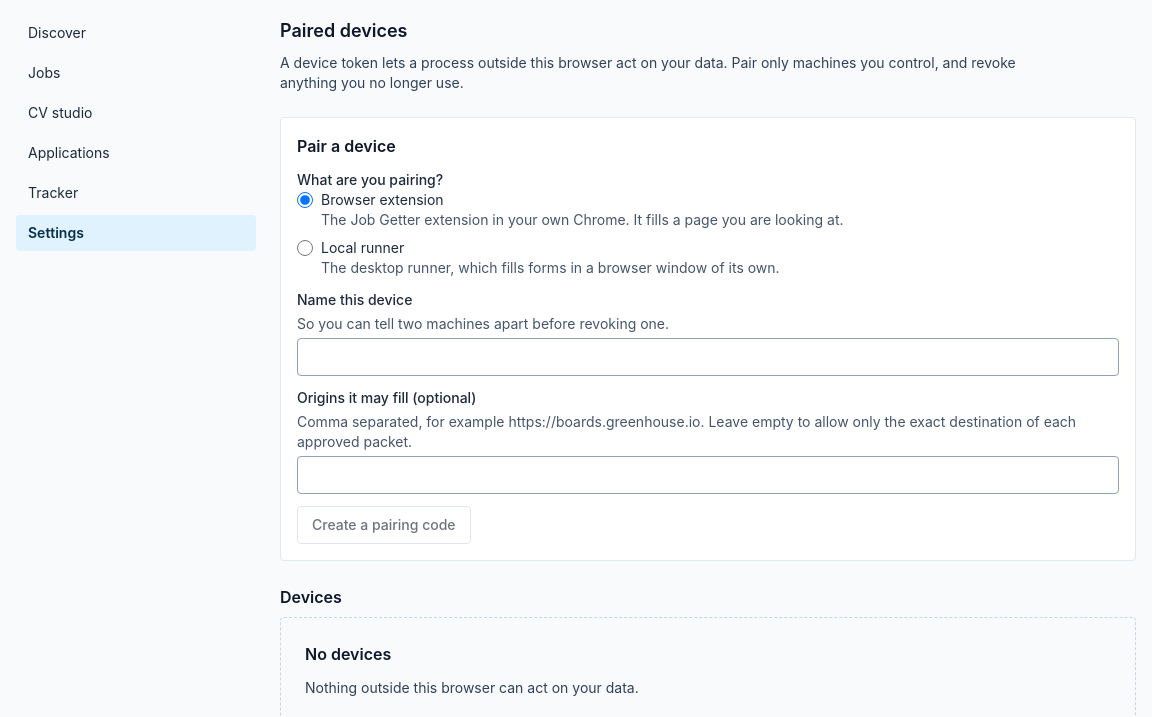
Scenario: device pairing › shows the code once and never renders a token
(page scrolled)
Expected: the heading "Paired devices" is shown, [280,20,408,41]
Type "Work laptop" into the field labelled "Name this device" at coordinates (708, 357), box [297,338,1119,376]
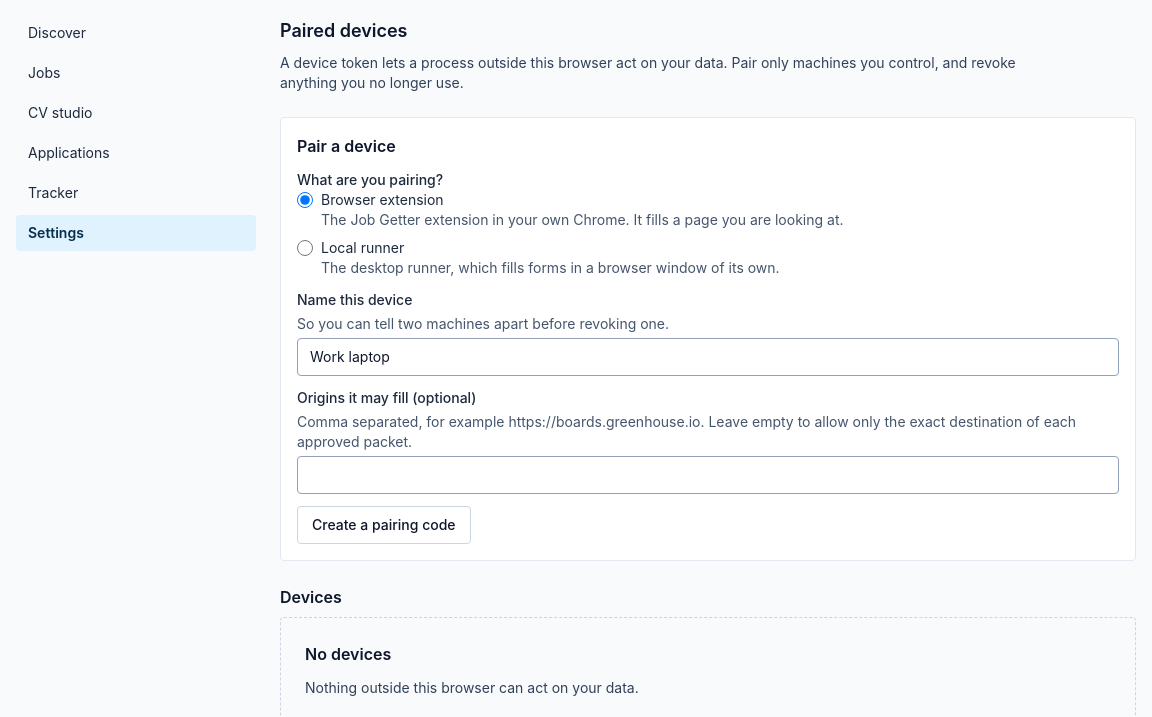
Click the button "Create a pairing code" at coordinates (384, 525), box [297,506,471,544]
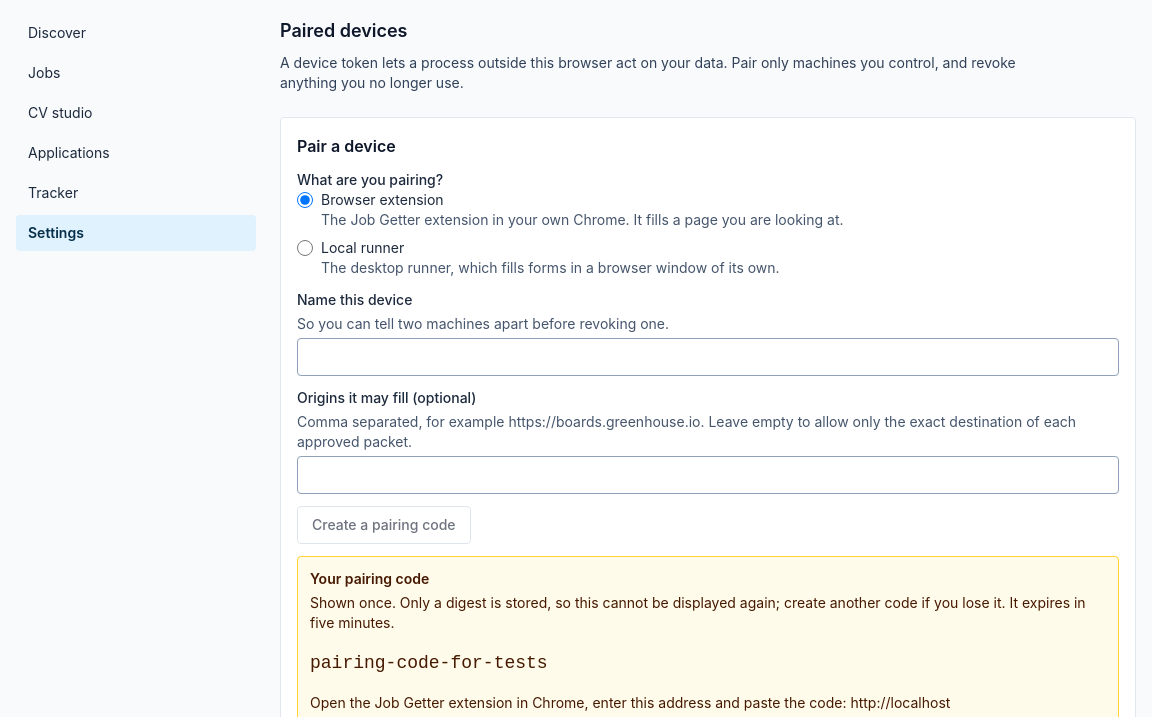
Result: the text with test id "pairing-code" reads "pairing-code-for-tests" at [310,653,548,673]
Result: the text "cannot be displayed again" is shown at [310,594,1086,631]
